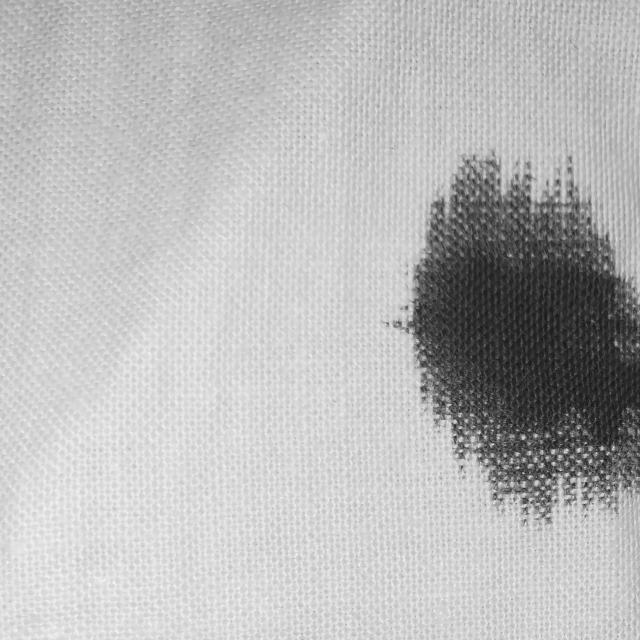Hole: (365, 141, 640, 550)
